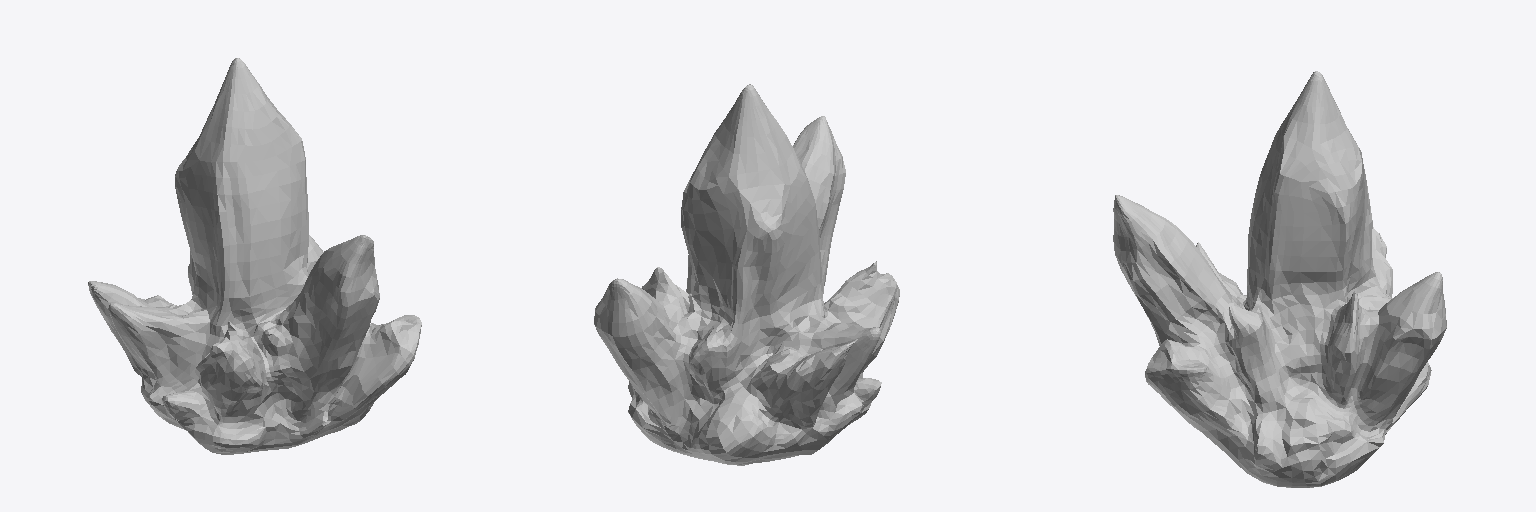
File: crystal.obj
3 renders of one model, left to right at view 1: azimuth 30°, elevation 25°; view 2: azimuth 150°, elevation 25°; view 3: azimuth 270°, elevation 25°, orthographic.
Parts seen in each view (by area): view 1: mesh; view 2: mesh; view 3: mesh.
Boxes of the visible parts, <box> form: mesh: <box>88,58,421,454</box>; mesh: <box>594,84,899,465</box>; mesh: <box>1113,71,1446,487</box>.
Size of the model in its own units: 0.7206 by 0.9844 by 0.8052.